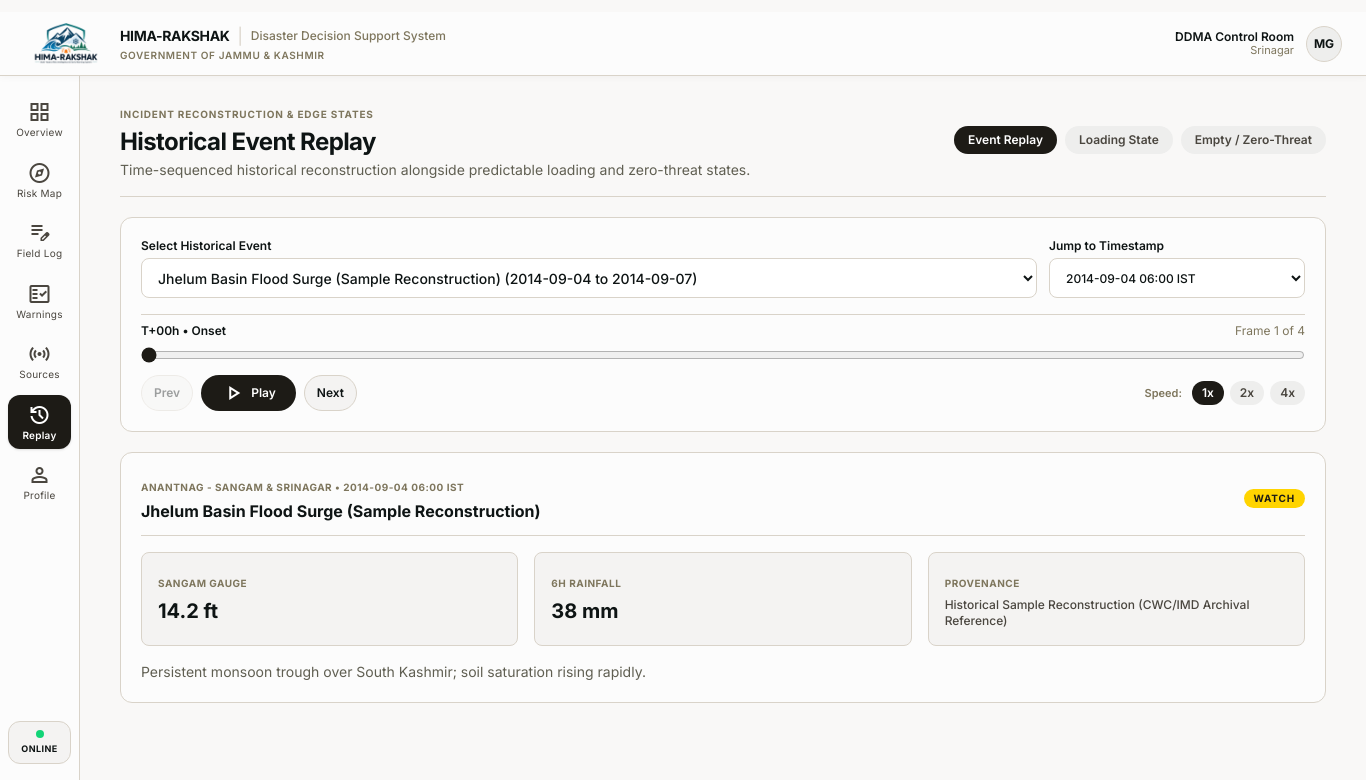
Scenario: ReplayPage › switches historical events and toggles loading and empty edge states
Select "Affarwat Ridge Avalanche Cycle (Sample Reconstruction) (2024-02-18 to 2024-02-20" in the dropdown labelled "Select Historical Event" at [589, 278], box [141,258,1037,298]
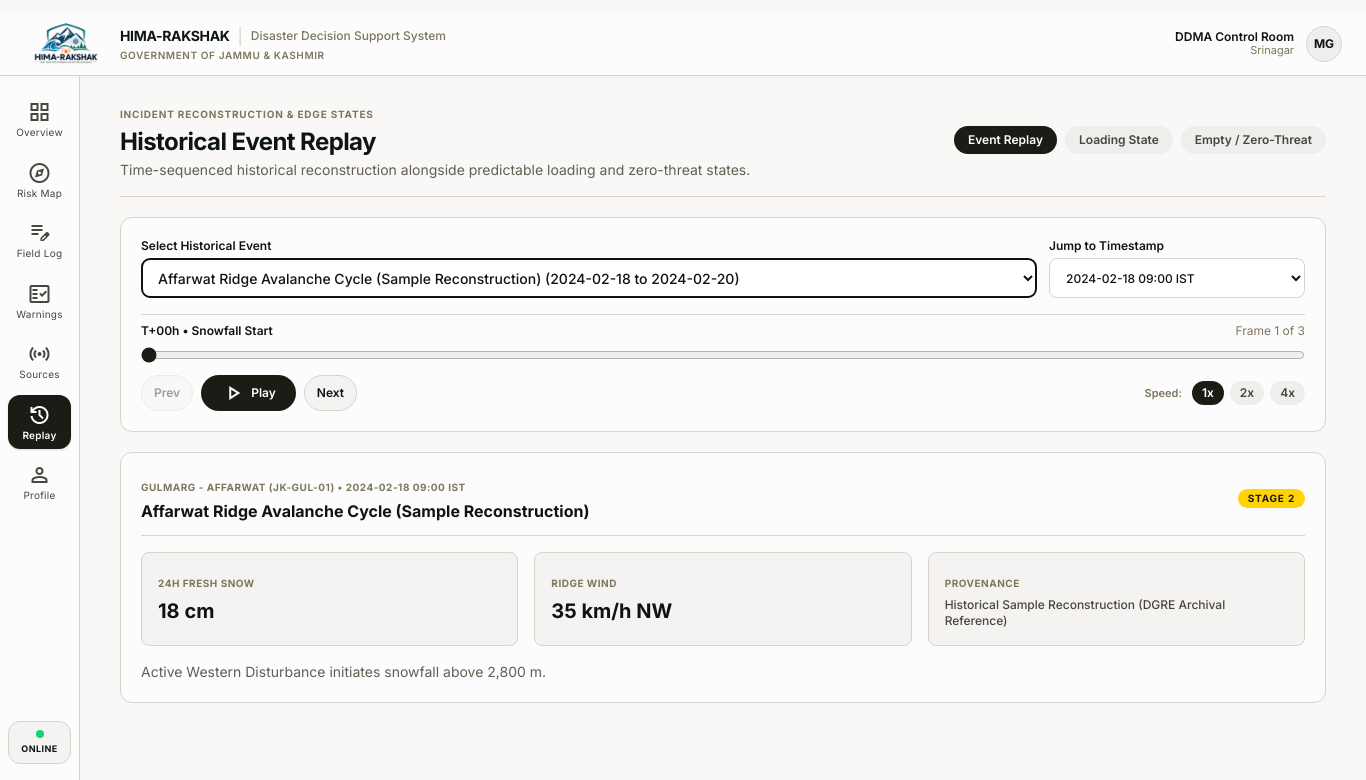
Expected: the text "18 cm" is shown, [158,599,214,623]
Click the button "Loading State" at [1119, 140], box [1065,126,1173,154]
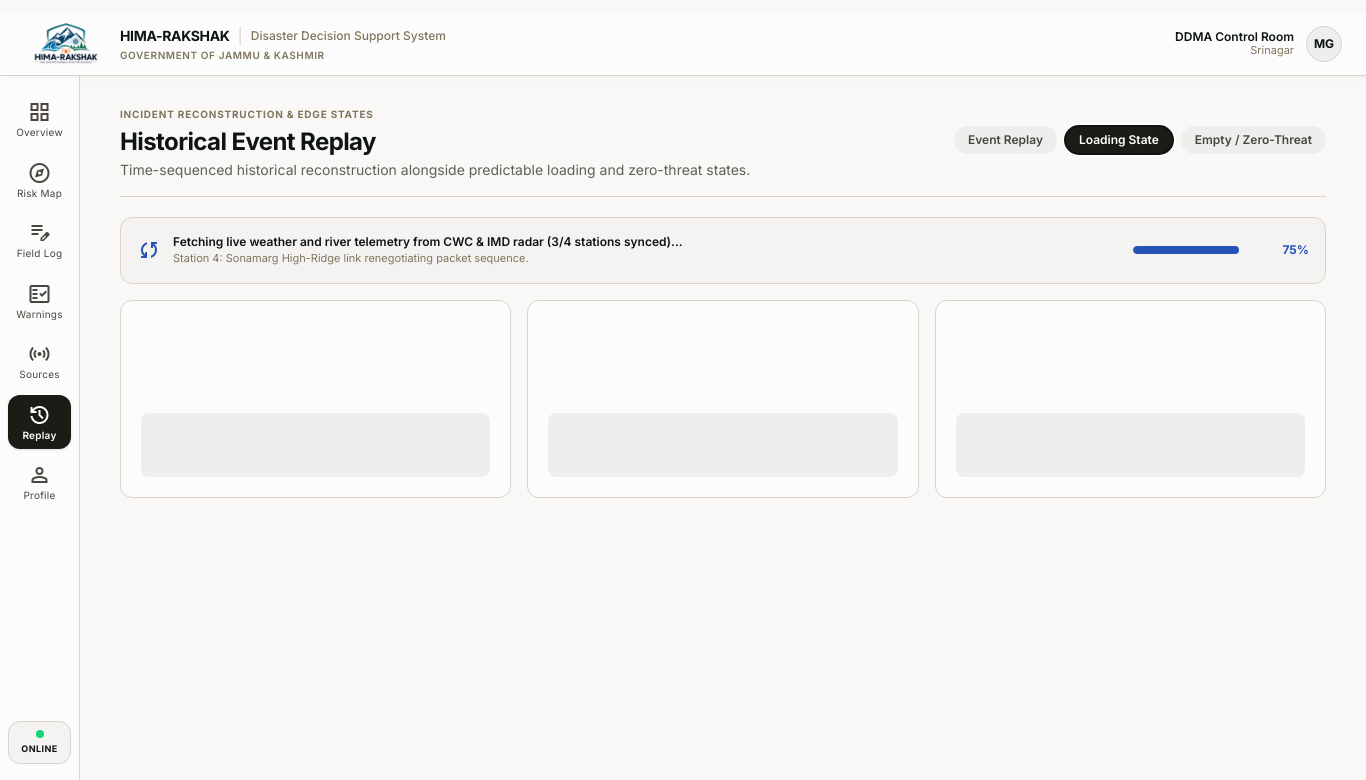
Expected: the text "Fetching live weather and river telemetry" is shown, [173,234,683,249]
Click the button "Empty / Zero-Threat" at [1253, 140], box [1181,126,1326,154]
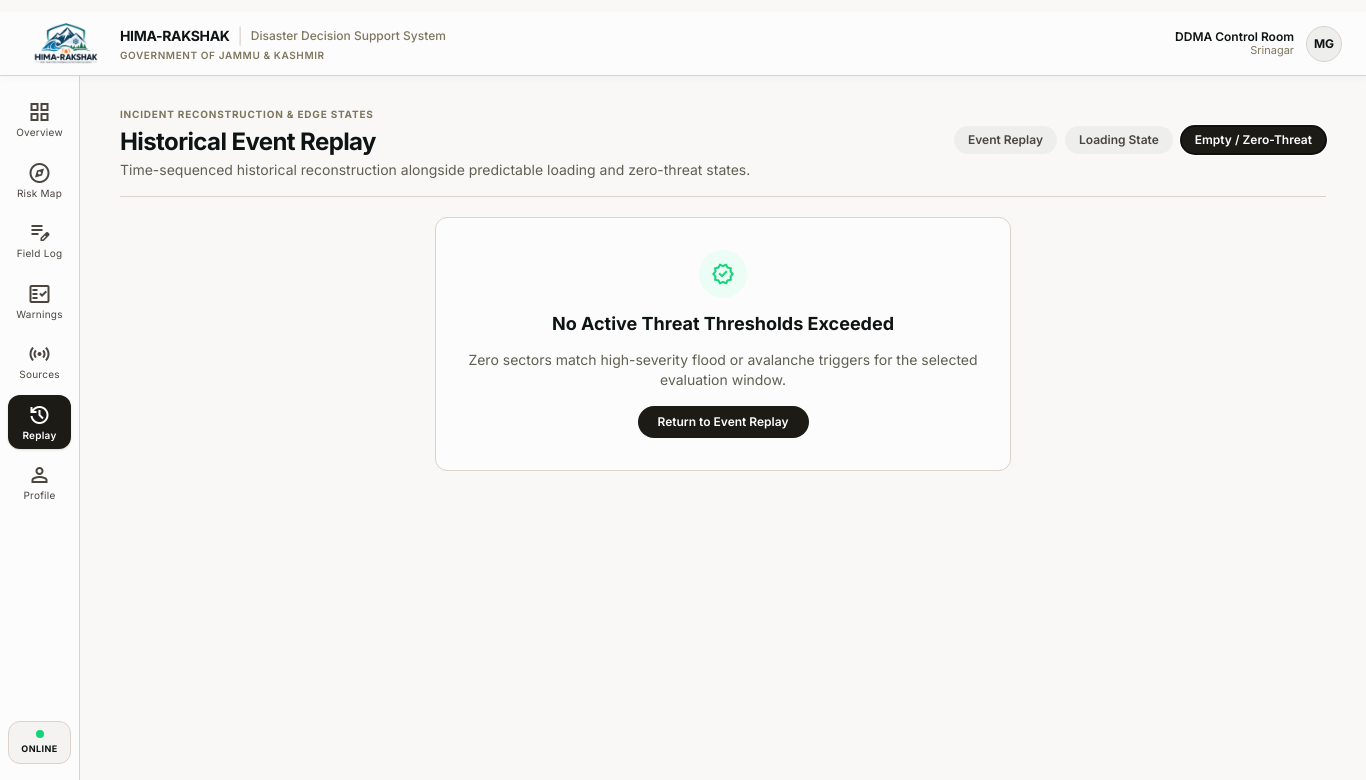
Expected: the heading "No Active Threat Thresholds Exceeded" is shown, [552,310,894,338]
Click the button "Return to Event Replay" at [723, 422], box [638,406,808,438]
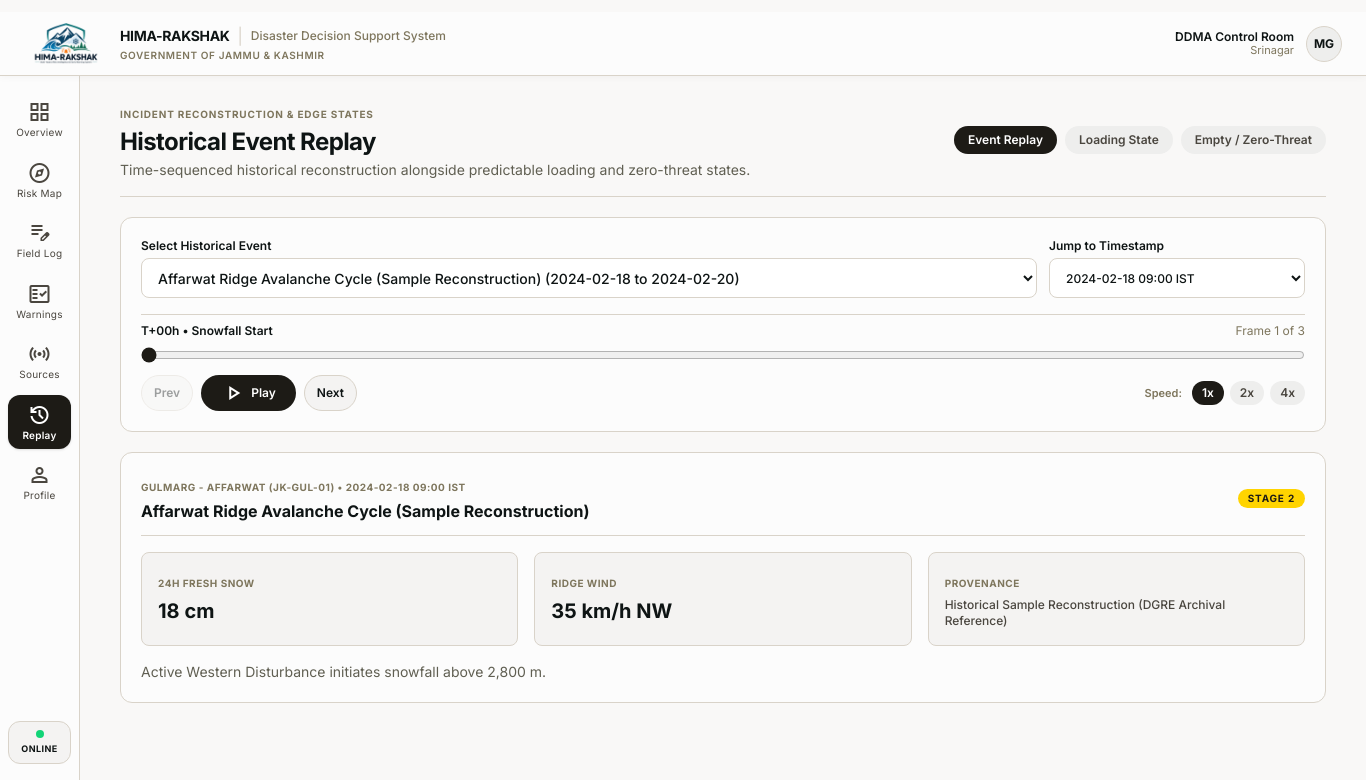
Expected: the slider named "Timeline scrubber" is shown, [141,347,1305,363]
